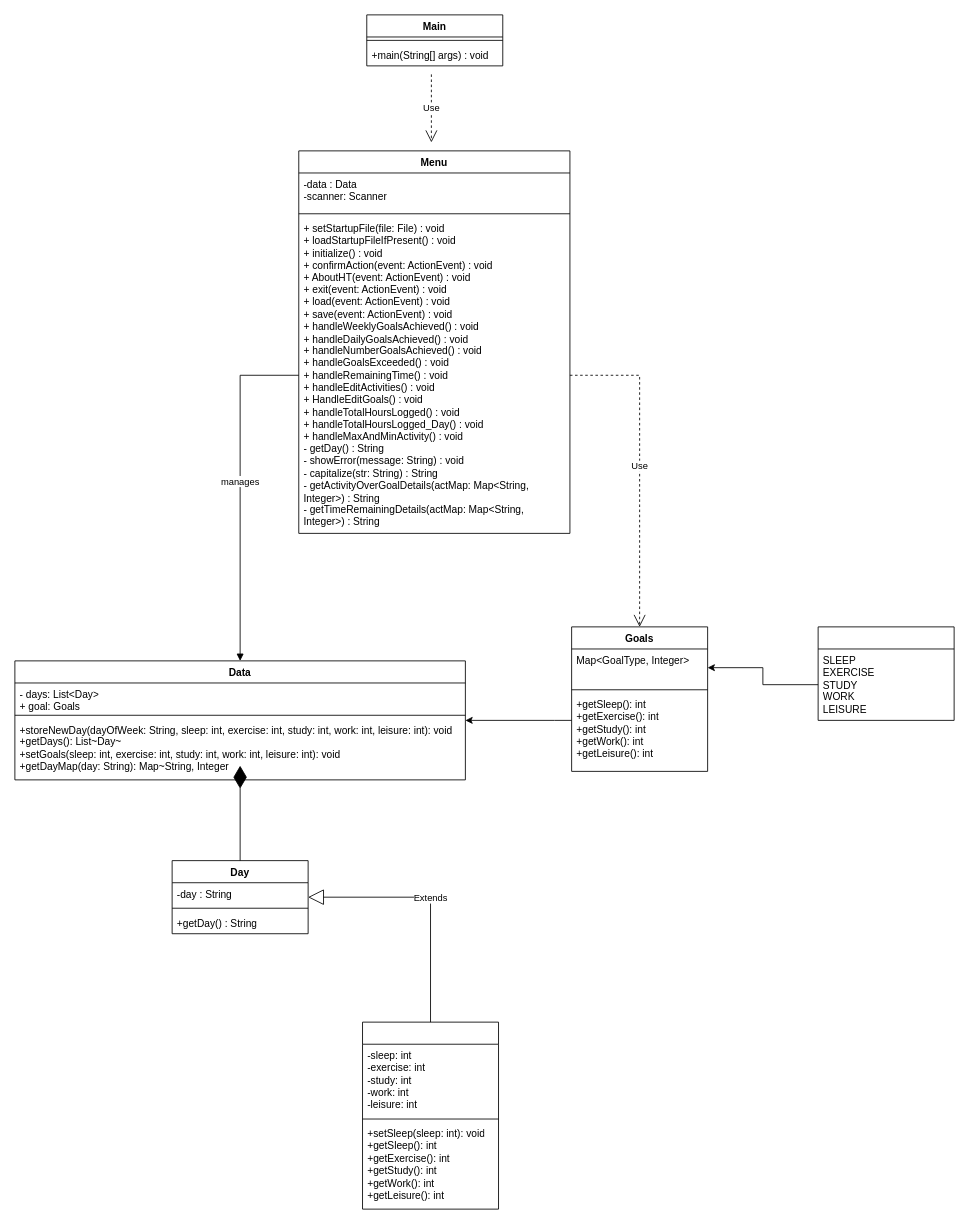
The diagram is 969 pixels wide and 1227 high, and some of its shapes have lost their labels. Each missing label, with the box of its shape:
Activity: (362, 1021, 499, 1209)
GoalType: (817, 626, 954, 720)
